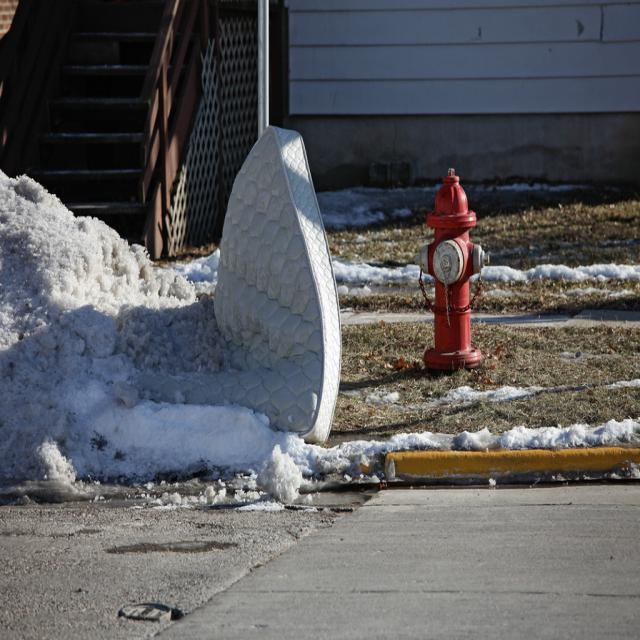fire_hydrant: (411, 167, 490, 367)
